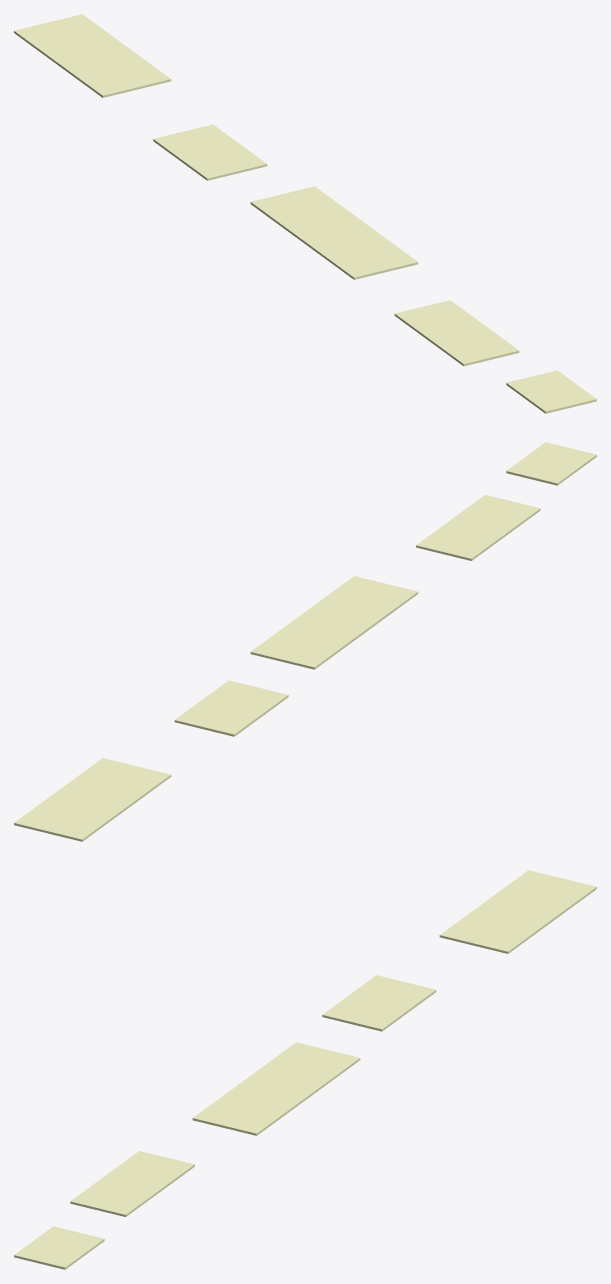
File: marking_lane_white_worn.glb
3 views of the same model, one above another, from view 1: azimuth 30°, elevation 25°; view 2: azimuth 150°, elevation 25°; view 3: azimuth 330°, elevation 25° (orthographic).
Parts seen in each view (by area): view 1: segment_2, segment_0, segment_3, segment_1, segment_4; view 2: segment_2, segment_0, segment_3, segment_1, segment_4; view 3: segment_2, segment_0, segment_3, segment_1, segment_4.
Part boxes in pixels (x1,y1,x2,y2): segment_2: (250, 186, 418, 279); segment_0: (14, 14, 171, 97); segment_3: (394, 300, 519, 366); segment_1: (153, 124, 267, 180); segment_4: (506, 370, 596, 413); segment_2: (250, 576, 418, 669); segment_0: (14, 758, 171, 841); segment_3: (416, 495, 540, 560); segment_1: (174, 680, 288, 736); segment_4: (506, 442, 596, 485); segment_2: (192, 1042, 360, 1135); segment_0: (439, 870, 596, 953); segment_3: (70, 1151, 194, 1216); segment_1: (322, 975, 436, 1031); segment_4: (14, 1226, 104, 1269).
Size of the model in its own units: 0.175 by 0.005 by 2.12.
